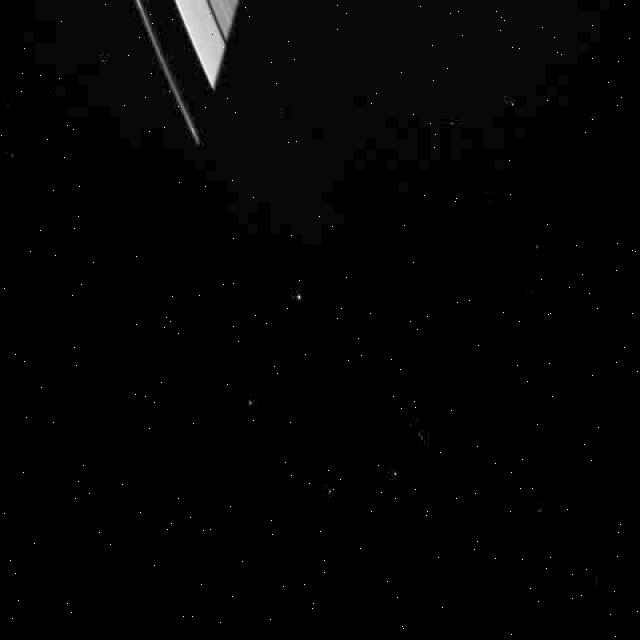Saturn: (122, 0, 250, 152)
